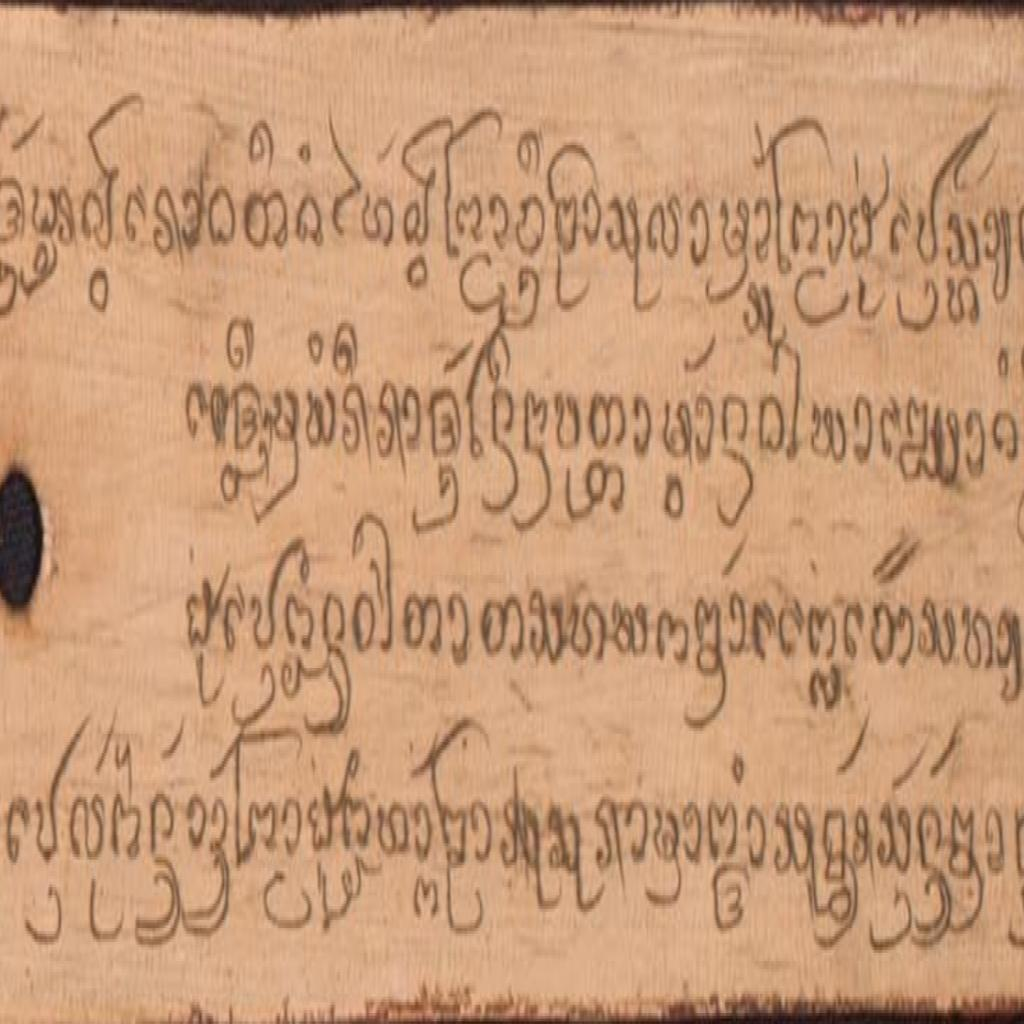LN002: (693, 591, 728, 690)
LN004: (898, 389, 965, 499)
LN025: (33, 752, 70, 874)
